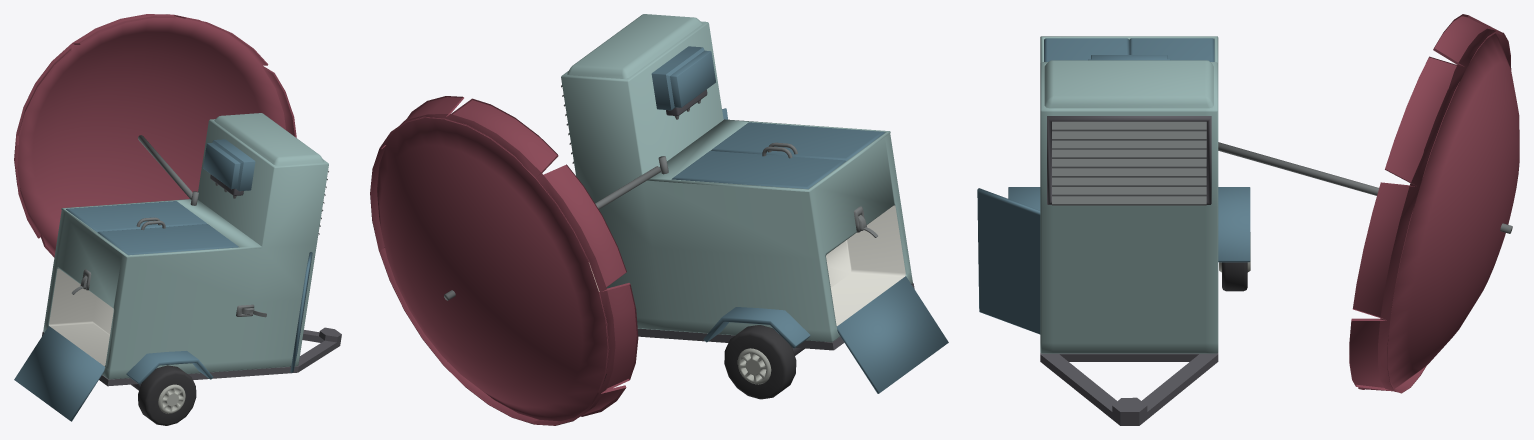
The model's file is IceCart.fbx.
3 views of the same model, side by side, from view 1: azimuth 30°, elevation 25°; view 2: azimuth 150°, elevation 25°; view 3: azimuth 270°, elevation 25° (orthographic). The views are drawn at different scales.
Parts seen in each view (by area): view 1: IceCreamCart; view 2: IceCreamCart; view 3: IceCreamCart.
Part boxes in pixels (x1,y1,x2,y2): IceCreamCart: (14,14,341,425); IceCreamCart: (370,14,948,425); IceCreamCart: (977,14,1519,425).
Bounding box in the file's own units: 258 × 187 × 263.
